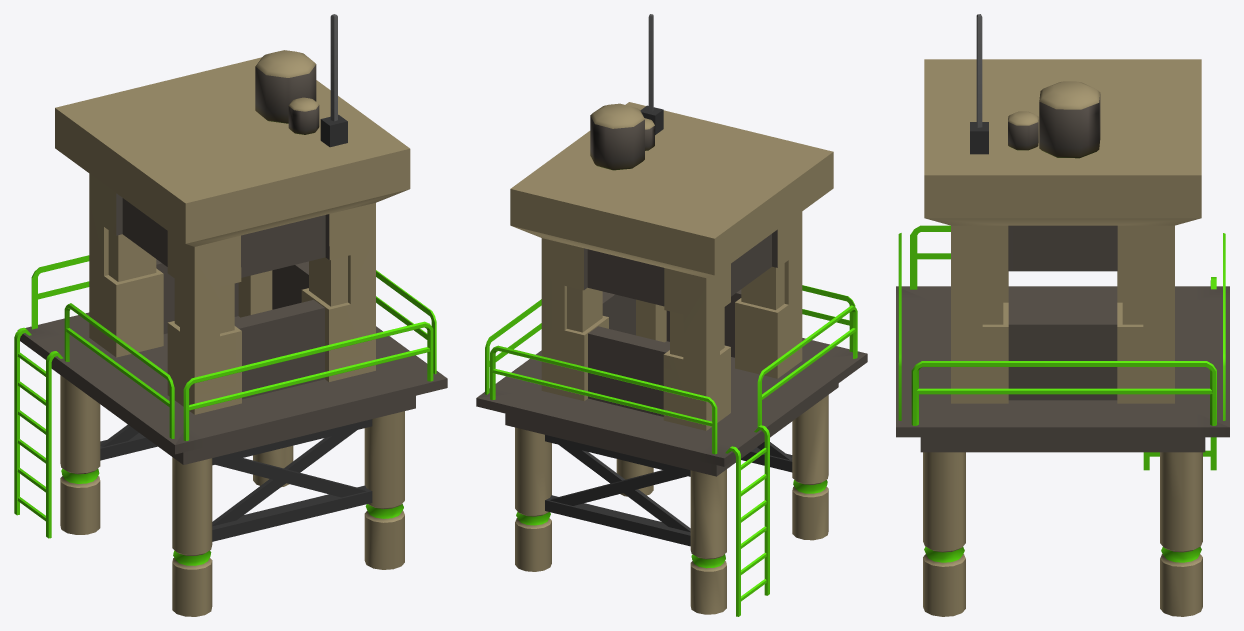
The model's file is Tower1.fbx.
3 renders of one model, left to right at view 1: azimuth 30°, elevation 25°; view 2: azimuth 150°, elevation 25°; view 3: azimuth 270°, elevation 25°, orthographic. The views are drawn at different scales.
Parts seen in each view (by area): view 1: raid_01_obj_12_raid_01_obj_12_1; view 2: raid_01_obj_12_raid_01_obj_12_1; view 3: raid_01_obj_12_raid_01_obj_12_1.
Part boxes in pixels (bbox=[...]): raid_01_obj_12_raid_01_obj_12_1: bbox=[14, 14, 447, 616]; raid_01_obj_12_raid_01_obj_12_1: bbox=[476, 14, 867, 616]; raid_01_obj_12_raid_01_obj_12_1: bbox=[896, 14, 1229, 616].
Size of the model in its own units: 3.1 by 5.71 by 3.
